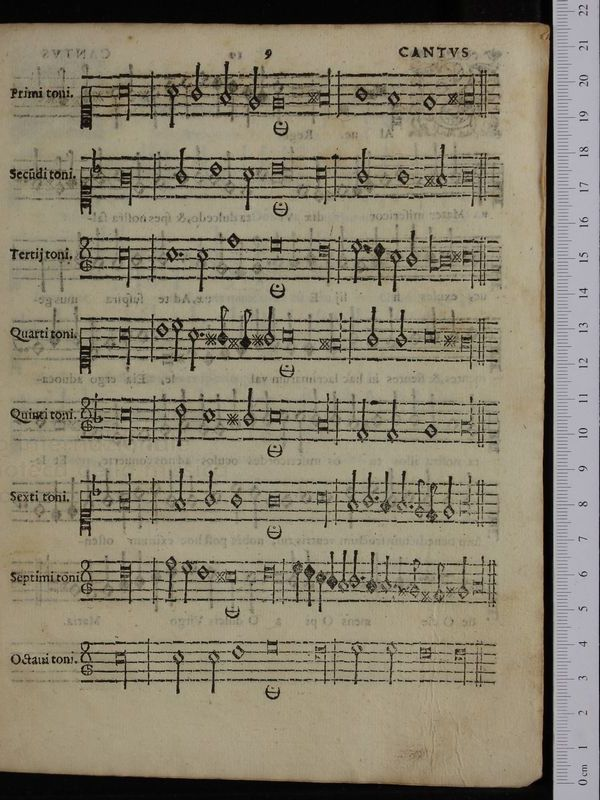barline: (473, 392, 491, 455)
breve_6: (263, 402, 288, 427)
fermata: (261, 438, 286, 465)
flat_7: (91, 384, 107, 435)
g clef_9: (75, 390, 93, 444)
longa_6: (114, 397, 135, 452)
longa_8: (457, 393, 476, 436), (314, 389, 333, 431)
minim_10: (384, 392, 400, 447), (354, 393, 369, 446)
minim_5: (172, 397, 188, 450)
minim_7: (241, 385, 256, 432)
semibreve_6: (200, 404, 219, 426)
semibreve_9: (419, 418, 441, 444)
sharp: (220, 409, 244, 430)
